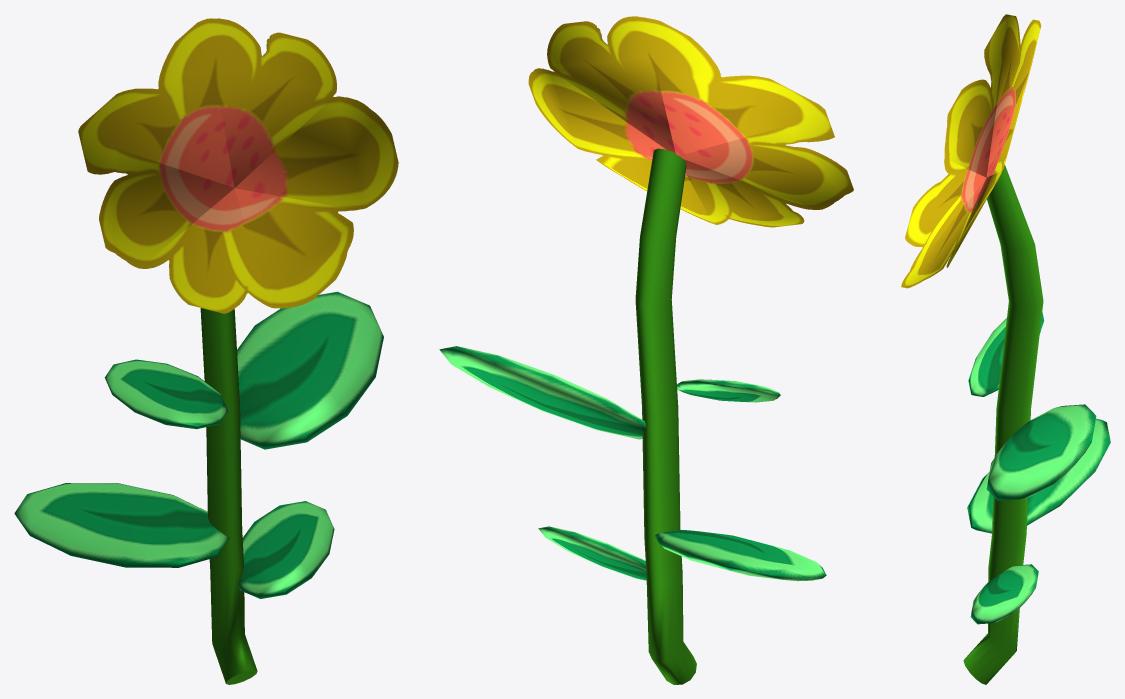
File: hua_01.fbx
The picture shows the model from 3 angles, left to right: view 1: azimuth 30°, elevation 25°; view 2: azimuth 150°, elevation 25°; view 3: azimuth 270°, elevation 25°; orthographic projection. The views are drawn at different scales.
Visible parts, largest first — view 1: hua1; view 2: hua1; view 3: hua1.
Boxes of the visible parts, x1,y1,x2,y2 form: hua1: (14, 18, 398, 684); hua1: (439, 16, 853, 684); hua1: (901, 14, 1110, 684).
Size of the model in its own units: 0.2291 by 0.4038 by 0.1212.
1 material, 1 textured.
